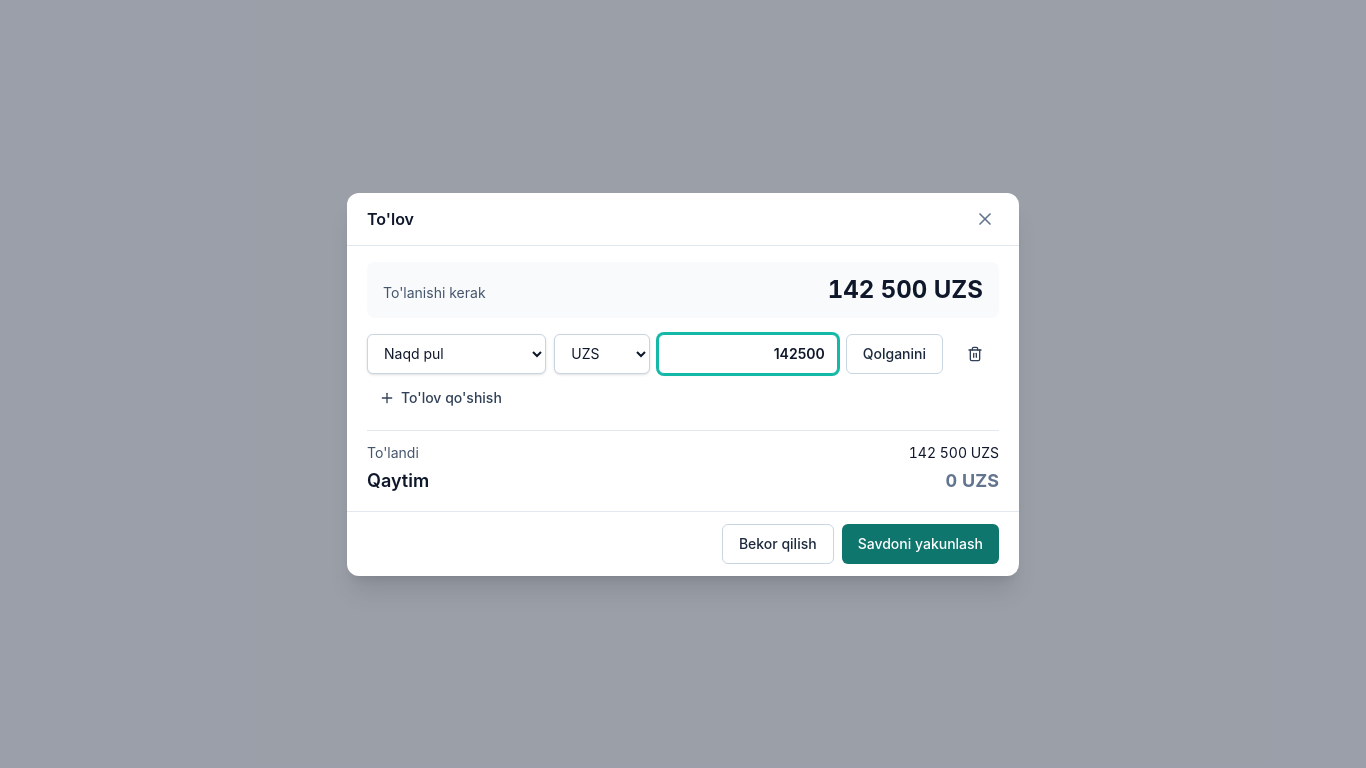
Scenario: to'lov oynasi: nasiya › kredit limiti yetmasa tugma yopiq
Step 1. Replace the text in the field with test id "pay-amount-1" with "20000" → (748, 354), box [658, 334, 838, 374]
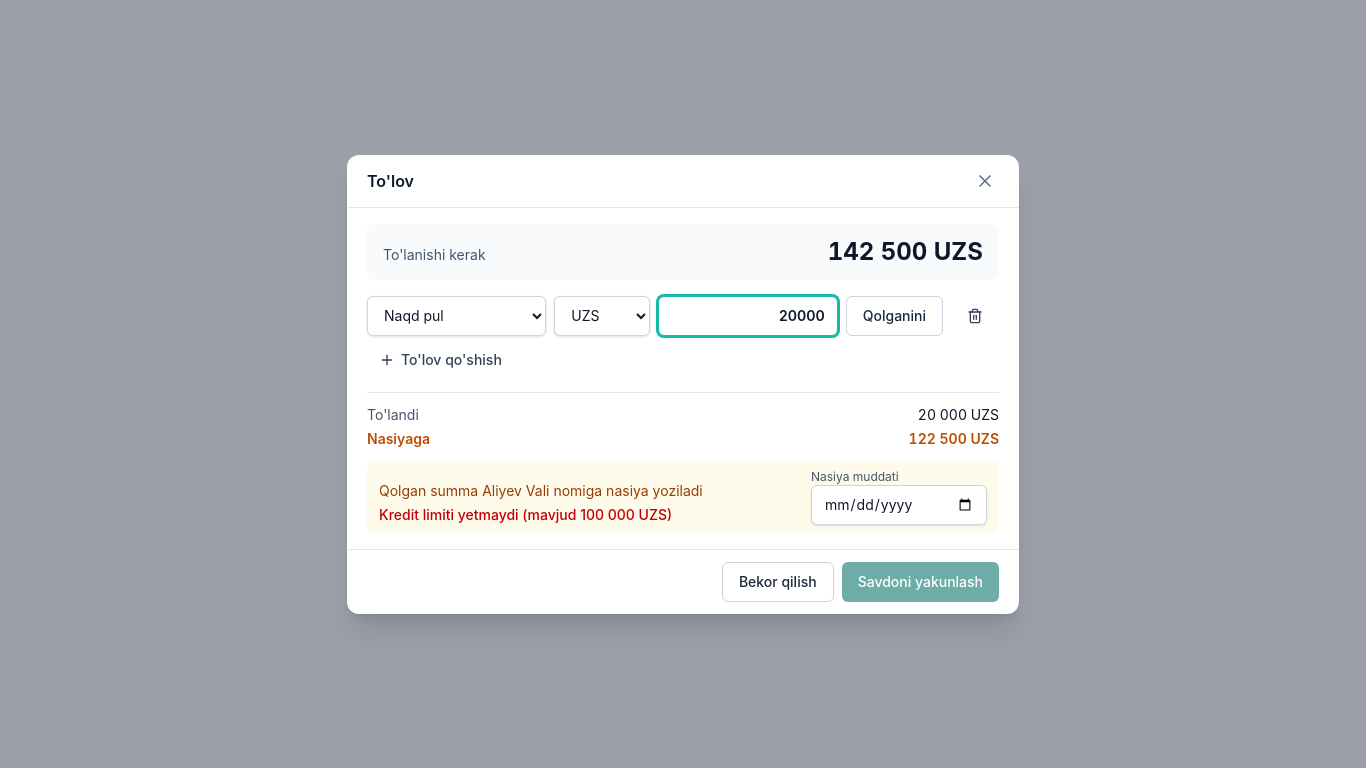
Expected: the button with test id "pay-confirm" is disabled, [842, 562, 999, 602]
Expected: the text "Kredit limiti yetmaydi (mavjud 100 000 UZS)" is shown, [379, 506, 672, 522]
